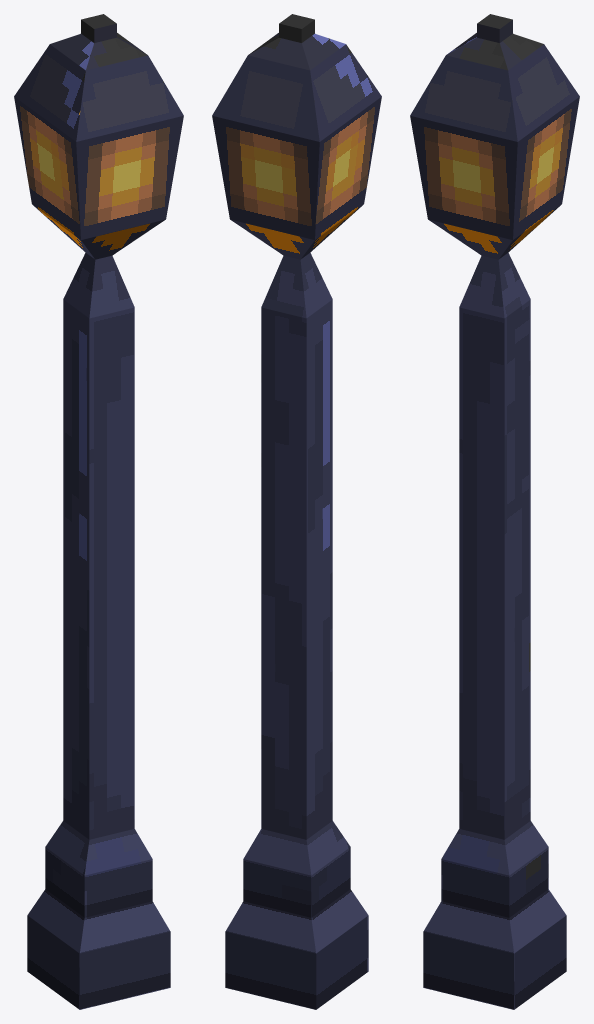
File: Lamppost.fbx
3 renders of one model, left to right at view 1: azimuth 30°, elevation 25°; view 2: azimuth 150°, elevation 25°; view 3: azimuth 330°, elevation 25°, orthographic.
Parts seen in each view (by area): view 1: cube; view 2: cube; view 3: cube.
Part boxes in pixels (<box>): cube: <box>14,14,183,1009</box>; cube: <box>212,14,381,1009</box>; cube: <box>410,14,579,1009</box>.
Bounding box in the file's own units: 50 × 425 × 50.
Materials: 1 (1 with a texture image).
